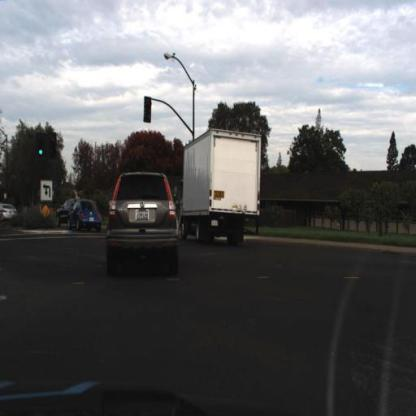car: (105, 170, 182, 276), (64, 195, 105, 234), (69, 199, 104, 234), (53, 191, 78, 226), (56, 193, 77, 231)
trafficLight: (142, 95, 154, 126)
trafficLight-Green: (35, 133, 47, 165), (37, 132, 45, 155)
trafficLight-Red: (47, 132, 56, 156), (143, 95, 151, 122)
truck: (180, 123, 265, 251)
